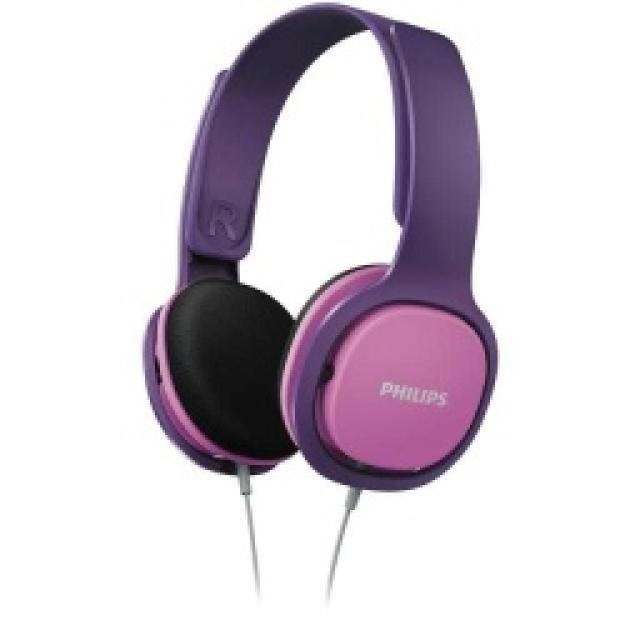headphones: (140, 0, 497, 492)
